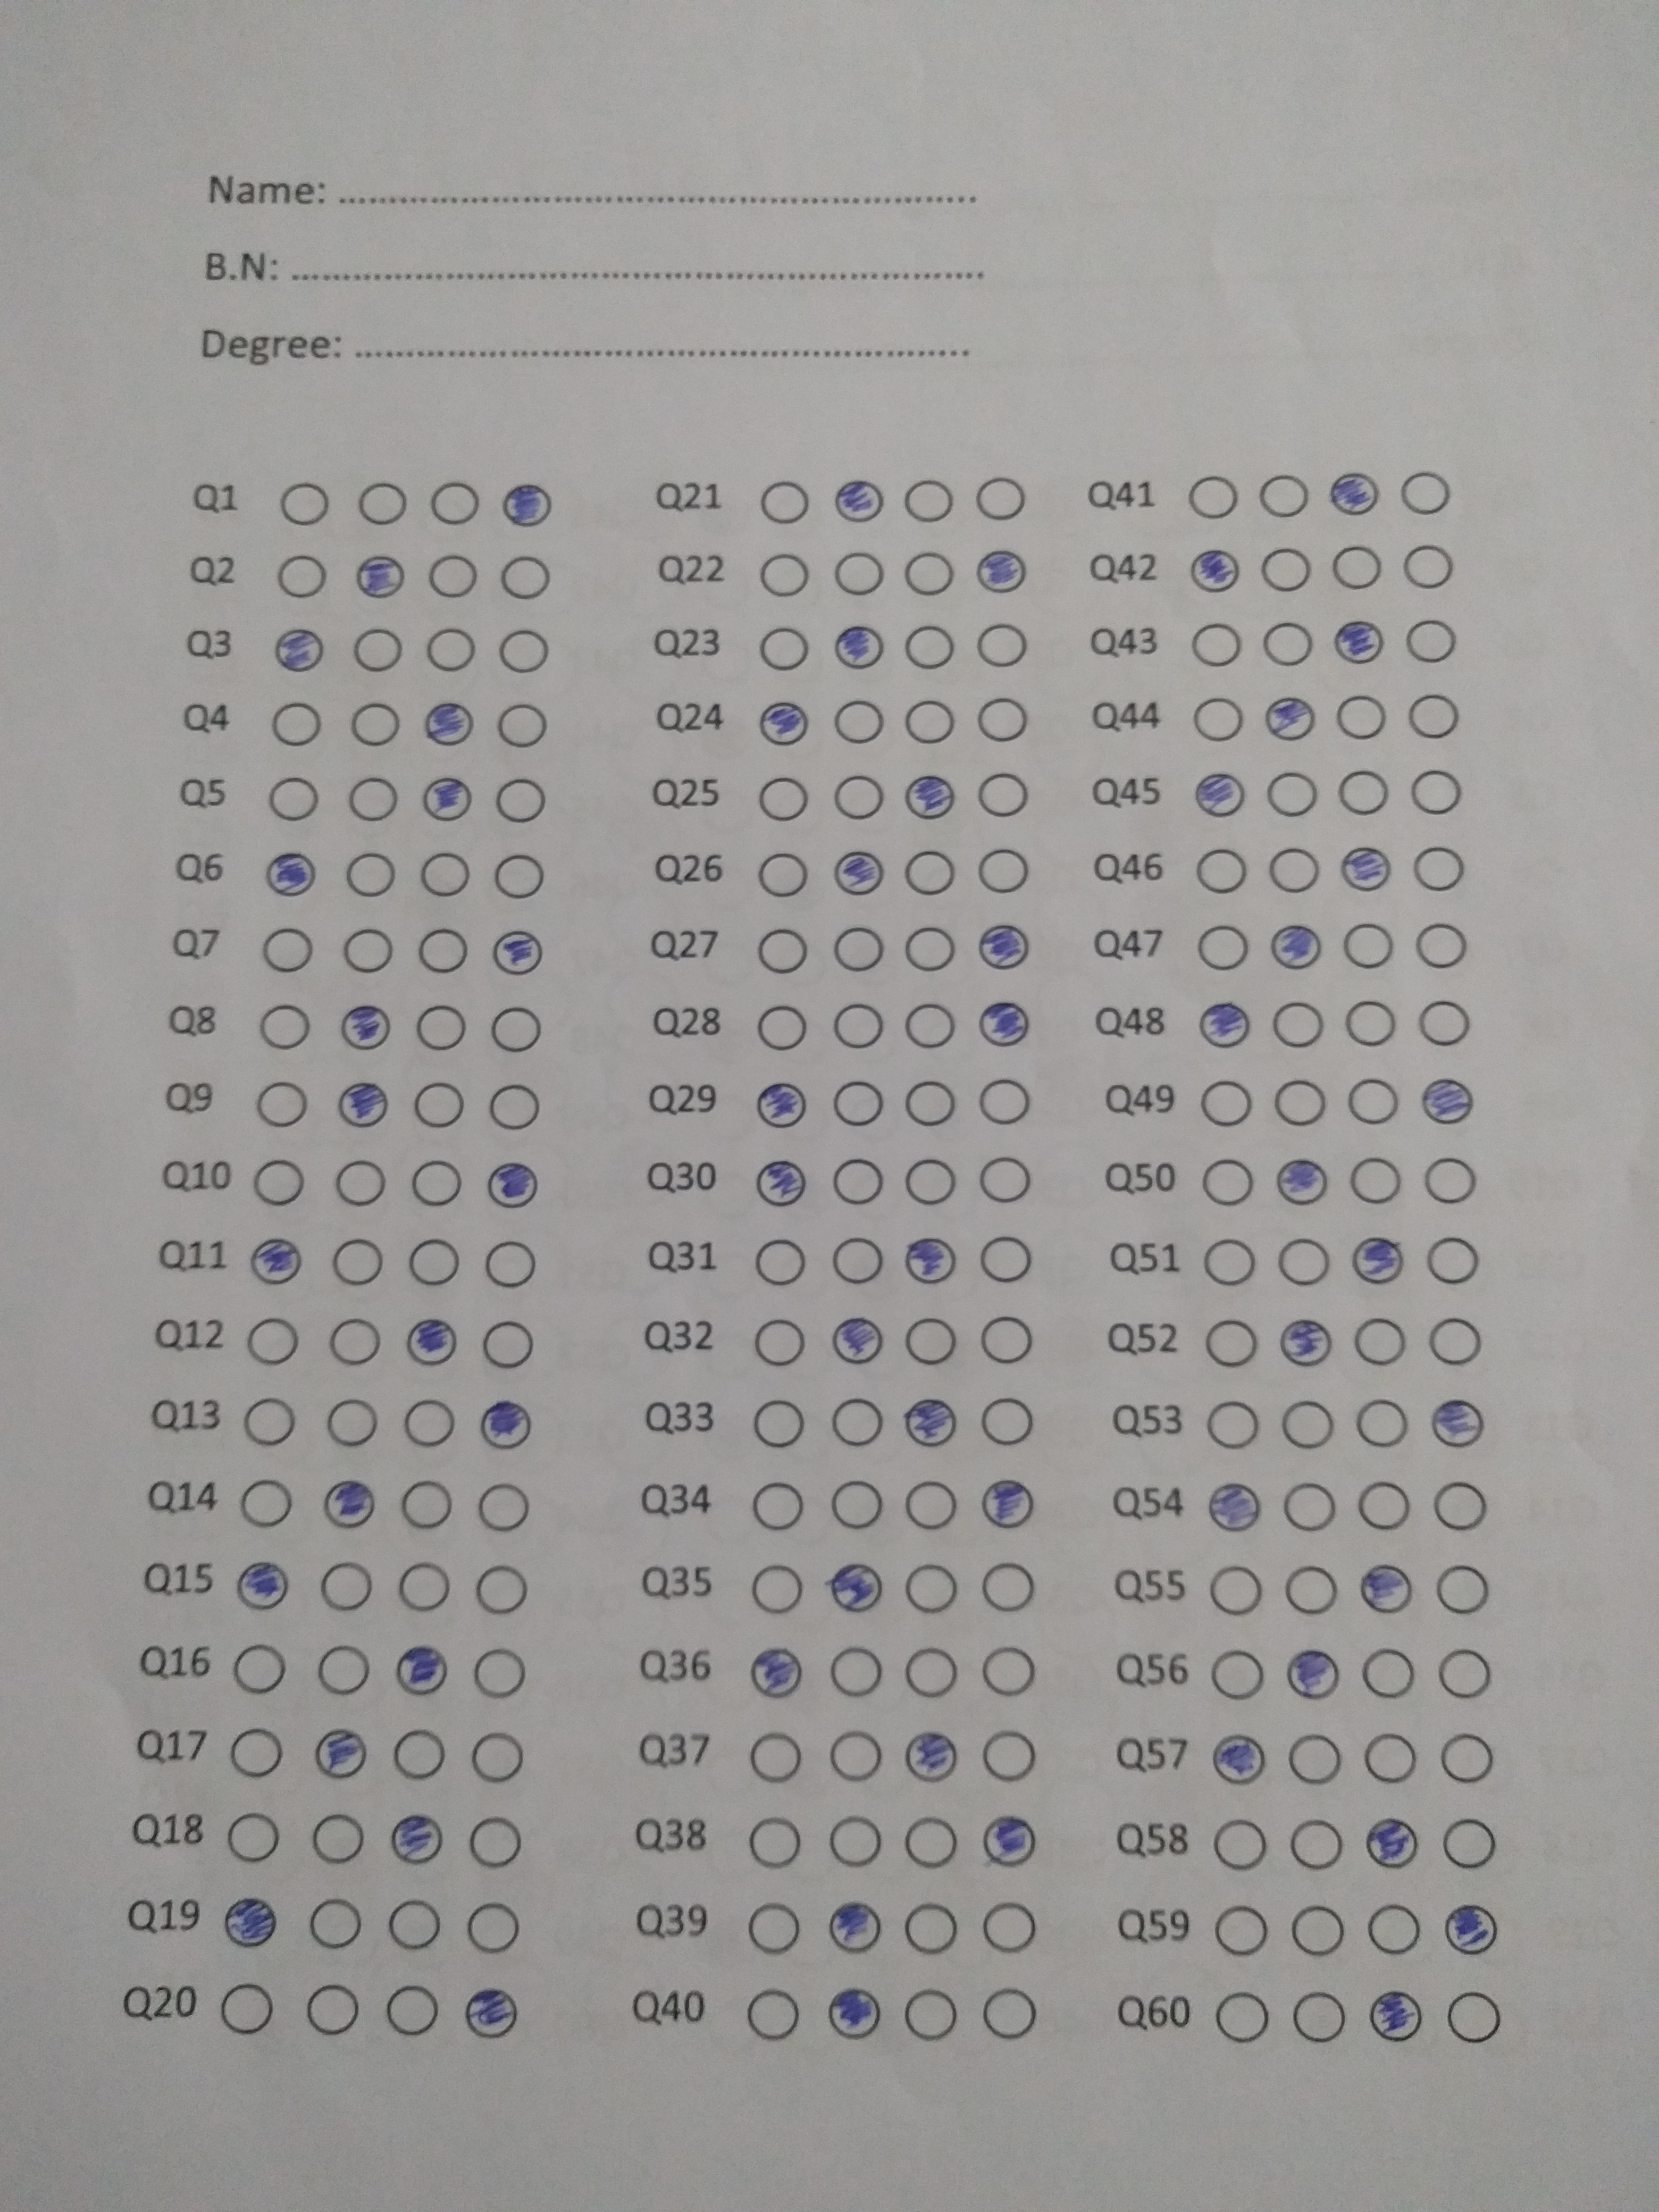not-c: (275, 477, 331, 529), (483, 1238, 538, 1291), (251, 1157, 307, 1209), (413, 1078, 469, 1130), (254, 1076, 310, 1129), (488, 1003, 544, 1055), (413, 1003, 469, 1055), (258, 1001, 314, 1054), (416, 925, 472, 977), (491, 853, 547, 906), (416, 850, 472, 902), (343, 848, 399, 900), (495, 773, 551, 826), (267, 773, 322, 826), (495, 702, 551, 754), (349, 697, 404, 749), (495, 624, 551, 676), (423, 624, 479, 676), (350, 624, 406, 676), (498, 550, 554, 603), (425, 547, 481, 599), (427, 474, 483, 526), (354, 479, 410, 531), (275, 549, 331, 601), (471, 1731, 526, 1784), (390, 1728, 446, 1780), (218, 1982, 274, 2034), (472, 1646, 528, 1698), (315, 1644, 371, 1696), (232, 1642, 288, 1695), (474, 1564, 530, 1616), (397, 1559, 453, 1611), (476, 1480, 532, 1533), (399, 1479, 455, 1531), (240, 1477, 296, 1529), (403, 1397, 458, 1449), (326, 1397, 382, 1449), (242, 1397, 298, 1449), (479, 1318, 535, 1371), (328, 1315, 383, 1367), (828, 1817, 884, 1869), (981, 1902, 1037, 1954), (903, 1904, 958, 1956), (744, 1902, 800, 1954), (981, 1989, 1037, 2041), (903, 1989, 958, 2041), (746, 1987, 802, 2040), (305, 1984, 361, 2036), (831, 1395, 887, 1447), (753, 1399, 809, 1451), (979, 1561, 1035, 1613), (904, 1562, 960, 1615), (749, 1562, 805, 1615), (828, 1646, 884, 1698), (983, 1730, 1039, 1782), (828, 1728, 884, 1780), (978, 1076, 1033, 1129), (978, 1155, 1033, 1207), (903, 1155, 958, 1207), (829, 1155, 885, 1207), (753, 1238, 809, 1291), (979, 1315, 1035, 1367), (903, 1315, 958, 1367), (751, 1317, 807, 1369), (976, 622, 1032, 674), (901, 624, 957, 676), (758, 624, 814, 676), (972, 691, 1028, 744), (901, 697, 957, 749), (976, 773, 1032, 826), (833, 770, 889, 822), (756, 773, 812, 826), (974, 846, 1030, 899), (903, 846, 958, 899), (755, 850, 810, 902), (901, 921, 957, 974), (831, 923, 887, 975), (903, 1000, 958, 1052), (1331, 542, 1387, 594), (1258, 542, 1314, 594), (1398, 467, 1453, 519), (1187, 474, 1243, 526), (899, 475, 955, 528), (760, 477, 816, 529), (904, 547, 960, 599), (833, 549, 889, 601), (756, 550, 812, 603), (1345, 1076, 1401, 1129), (1272, 1078, 1328, 1130), (1199, 1078, 1255, 1130), (1417, 1000, 1473, 1052), (1269, 998, 1324, 1050), (1413, 921, 1469, 974), (1342, 921, 1398, 974), (1195, 925, 1251, 977), (1412, 845, 1467, 897), (1267, 843, 1323, 895), (1410, 766, 1466, 819), (1265, 768, 1321, 820), (1190, 693, 1246, 745), (1262, 620, 1317, 672), (1202, 1318, 1258, 1371), (1276, 1235, 1331, 1287), (1199, 1155, 1255, 1207), (1441, 1817, 1497, 1869), (1213, 1818, 1269, 1871), (1439, 1731, 1495, 1784), (1290, 1731, 1345, 1784), (1436, 1648, 1492, 1700), (1209, 1648, 1265, 1700), (1434, 1562, 1490, 1615), (1283, 1564, 1338, 1616), (1208, 1564, 1263, 1616), (1431, 1480, 1486, 1533), (1356, 1479, 1412, 1531), (1445, 1989, 1500, 2041), (1291, 1989, 1347, 2041), (1291, 1905, 1347, 1958), (246, 1315, 300, 1367), (408, 1237, 462, 1289), (329, 1235, 383, 1287), (408, 1158, 462, 1211), (333, 1155, 387, 1207), (347, 775, 401, 827), (312, 1813, 366, 1865), (230, 1726, 284, 1778), (321, 1561, 375, 1613), (385, 1984, 439, 2036), (307, 1897, 361, 1949), (387, 1898, 441, 1951), (465, 1902, 519, 1954), (469, 1817, 523, 1869), (904, 1479, 958, 1531), (829, 1477, 884, 1529), (751, 1480, 805, 1533), (983, 1646, 1037, 1698), (904, 1646, 958, 1698), (751, 1731, 805, 1784), (756, 1001, 810, 1054), (904, 1075, 958, 1127), (979, 1393, 1033, 1446), (831, 1001, 885, 1054), (1258, 470, 1312, 523), (974, 474, 1028, 526), (1344, 998, 1398, 1050), (1335, 691, 1389, 744), (1403, 615, 1457, 667), (1190, 620, 1244, 672), (1401, 540, 1455, 592), (1354, 1399, 1408, 1451), (1281, 1399, 1335, 1451), (1206, 1399, 1260, 1451), (1429, 1313, 1483, 1366), (1352, 1317, 1406, 1369), (1204, 1235, 1258, 1287), (1422, 1155, 1476, 1207), (1349, 1157, 1403, 1209), (1290, 1817, 1344, 1869), (1363, 1731, 1417, 1784), (1361, 1646, 1415, 1698), (1283, 1479, 1337, 1531), (1215, 1989, 1269, 2041), (1366, 1904, 1420, 1956), (486, 1083, 542, 1134), (340, 927, 396, 977), (268, 698, 324, 749), (904, 1817, 960, 1867), (746, 1817, 802, 1867), (1335, 768, 1391, 819), (1408, 691, 1464, 742), (1425, 1235, 1481, 1285), (1215, 1905, 1270, 1956), (261, 927, 315, 977), (225, 1811, 279, 1862), (833, 1078, 887, 1129), (979, 1235, 1033, 1285), (831, 1235, 885, 1285), (833, 698, 887, 749), (756, 927, 810, 977), (1197, 846, 1248, 897)
taken-c: (1366, 1989, 1425, 2047), (981, 1811, 1039, 1869), (826, 1559, 885, 1615), (221, 1893, 279, 1949), (1359, 1559, 1415, 1616), (744, 1646, 803, 1700), (1209, 1731, 1269, 1785), (828, 1900, 884, 1956), (1445, 1900, 1500, 1956), (464, 1986, 521, 2040), (1284, 1648, 1342, 1702), (1363, 1817, 1420, 1871), (904, 1728, 958, 1784), (903, 1230, 957, 1285), (315, 1724, 368, 1782), (903, 1397, 960, 1449), (828, 1315, 887, 1366), (1276, 1153, 1330, 1207), (1206, 1479, 1260, 1533), (978, 921, 1033, 974), (828, 1987, 884, 2040), (979, 1479, 1035, 1531), (1419, 1075, 1474, 1127), (751, 1080, 809, 1130), (389, 1813, 446, 1864), (1429, 1399, 1486, 1449), (477, 1399, 532, 1451), (322, 1475, 375, 1529), (272, 624, 328, 674), (486, 1160, 542, 1211), (903, 772, 958, 822), (234, 1559, 289, 1609), (394, 1644, 450, 1695), (1349, 1235, 1405, 1285), (1279, 1317, 1335, 1367), (831, 848, 885, 899), (249, 1237, 303, 1287), (974, 547, 1030, 596), (1197, 1001, 1253, 1050), (265, 848, 317, 899), (491, 927, 544, 977), (340, 1000, 392, 1050), (833, 622, 885, 672), (1194, 768, 1246, 819), (354, 550, 408, 599), (420, 775, 474, 824), (336, 1080, 390, 1129), (1331, 618, 1387, 665), (1262, 695, 1317, 742), (1269, 923, 1324, 970), (756, 1157, 807, 1207), (758, 698, 810, 747), (978, 1000, 1032, 1047), (403, 1318, 457, 1366), (502, 479, 552, 528), (833, 477, 885, 524), (1331, 470, 1384, 517), (1340, 846, 1392, 894), (423, 700, 474, 747), (1188, 549, 1241, 592)
